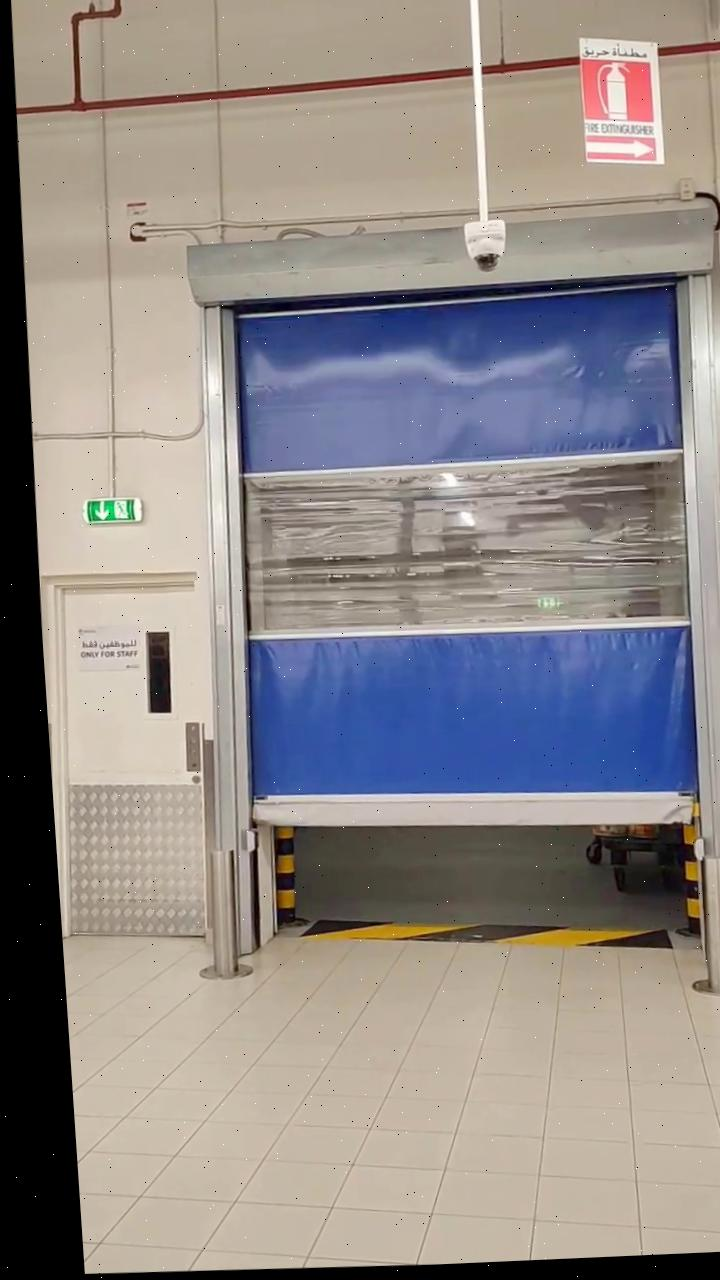Strip: (290, 902, 665, 969)
